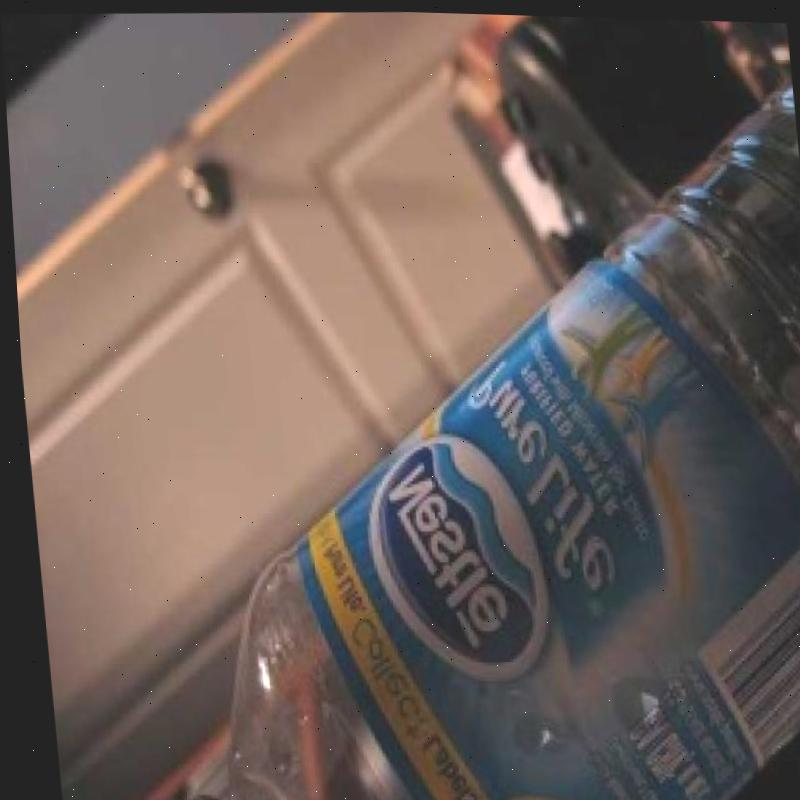botella: (110, 59, 800, 800)
